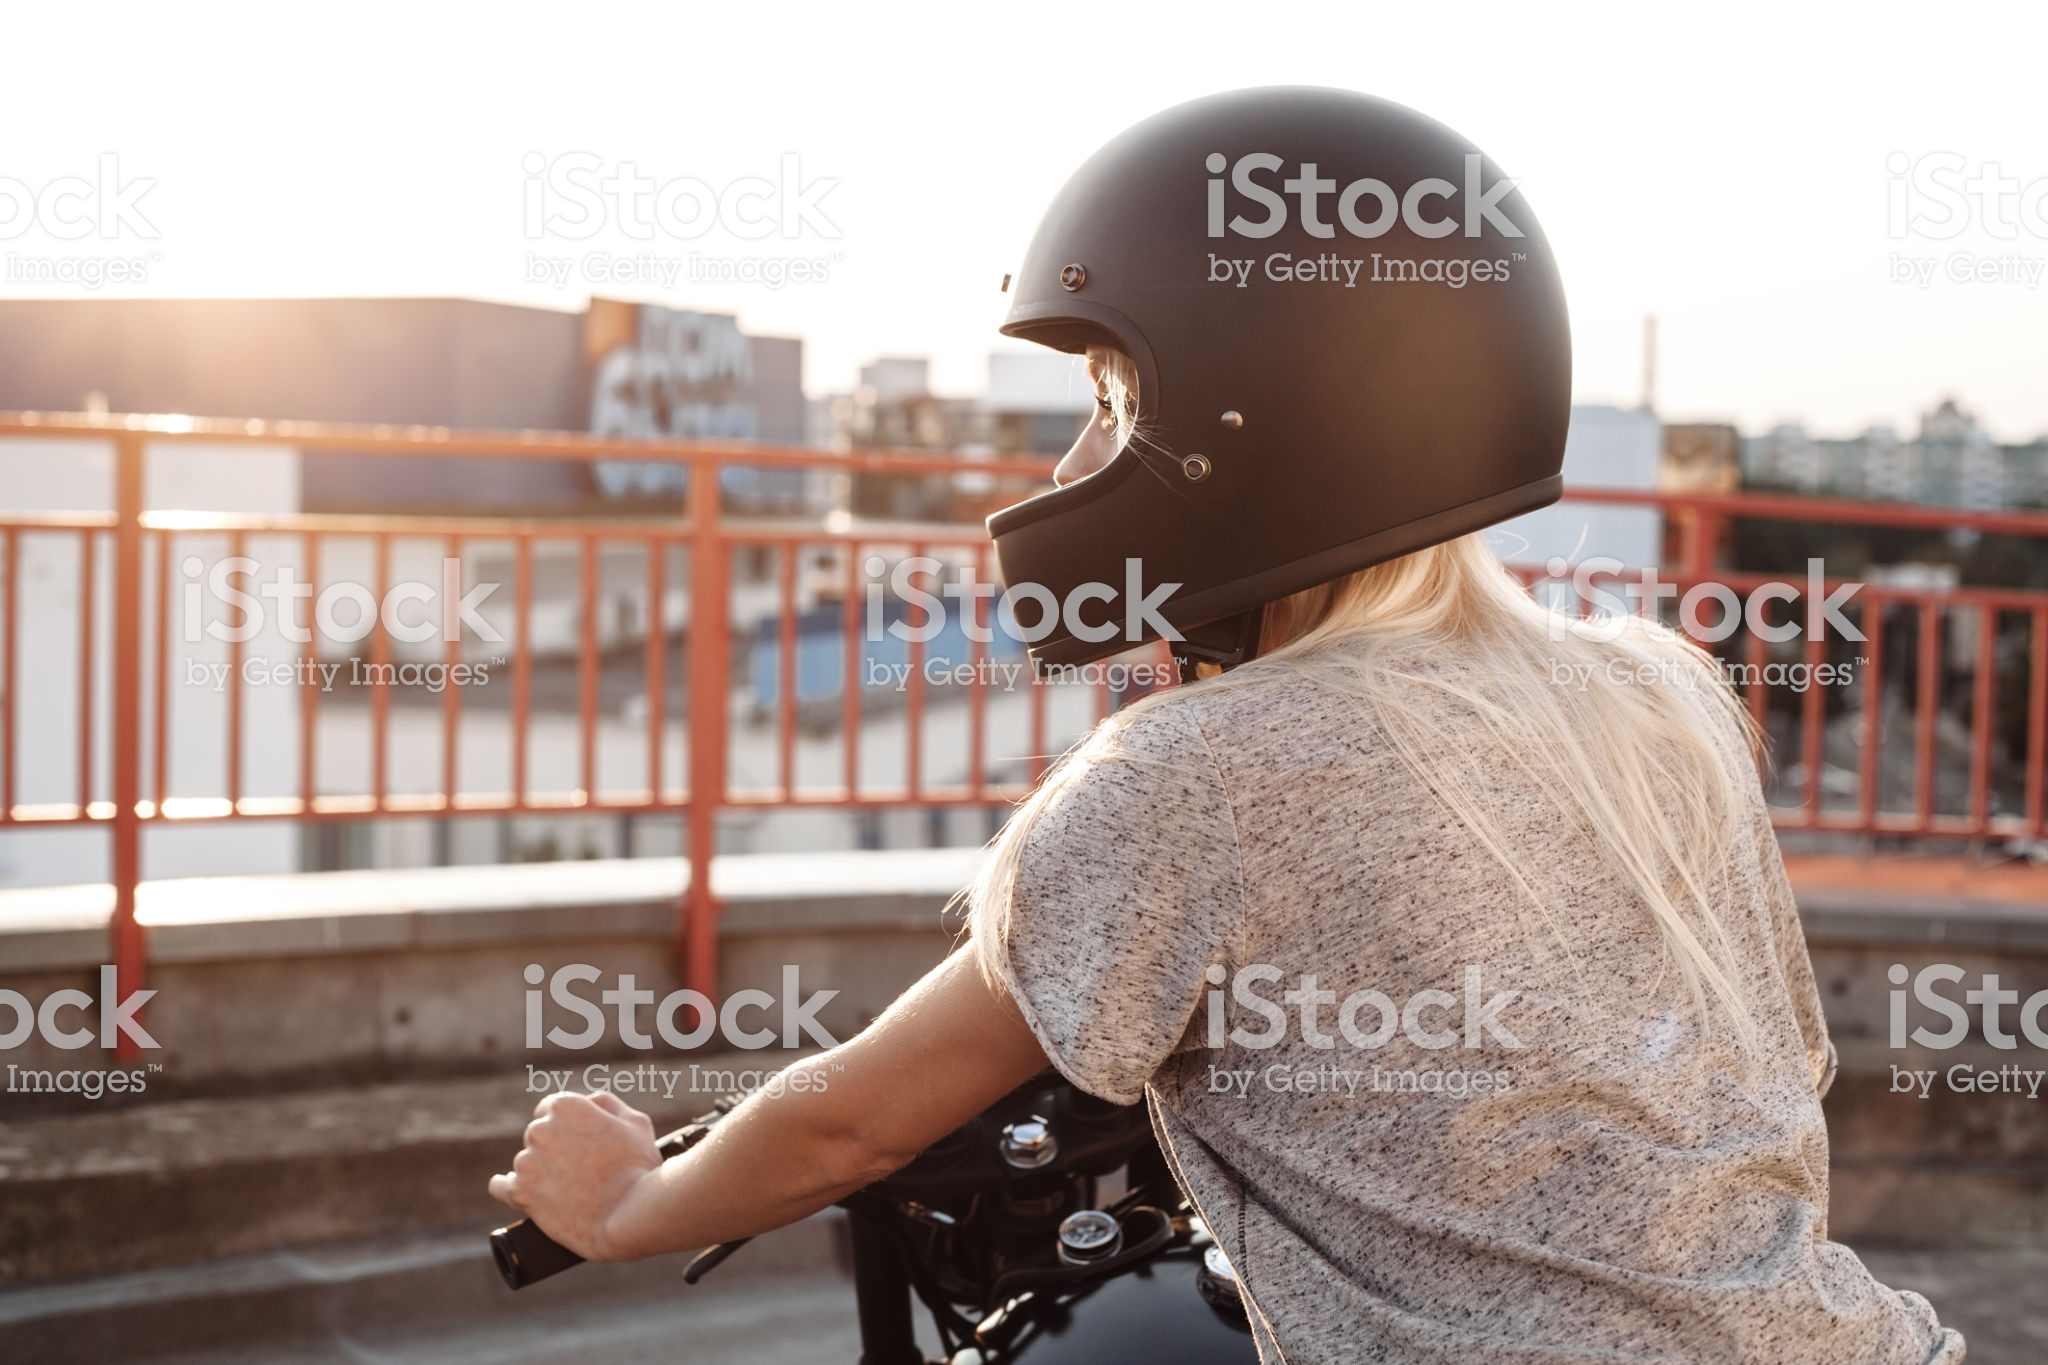helmet: (961, 78, 1527, 608)
